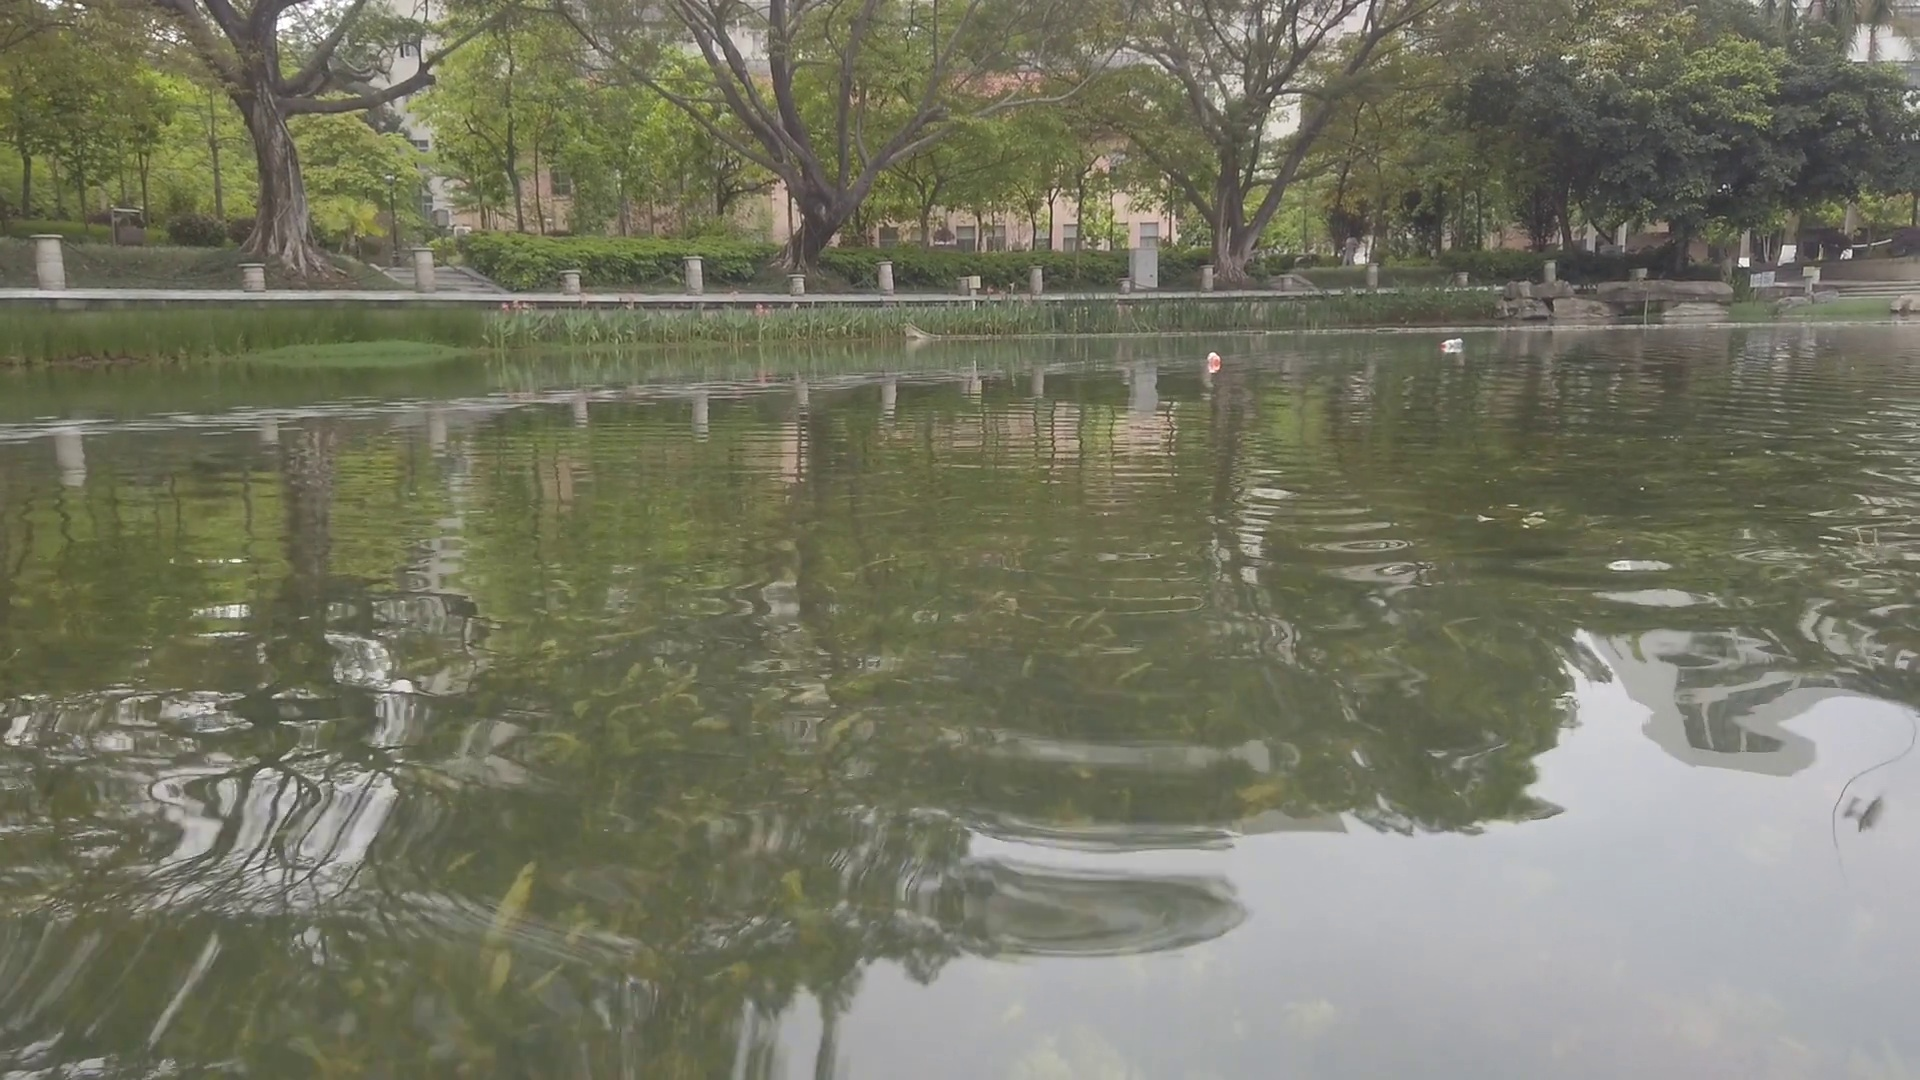bottle: (1441, 338, 1466, 349), (1205, 349, 1221, 368)
